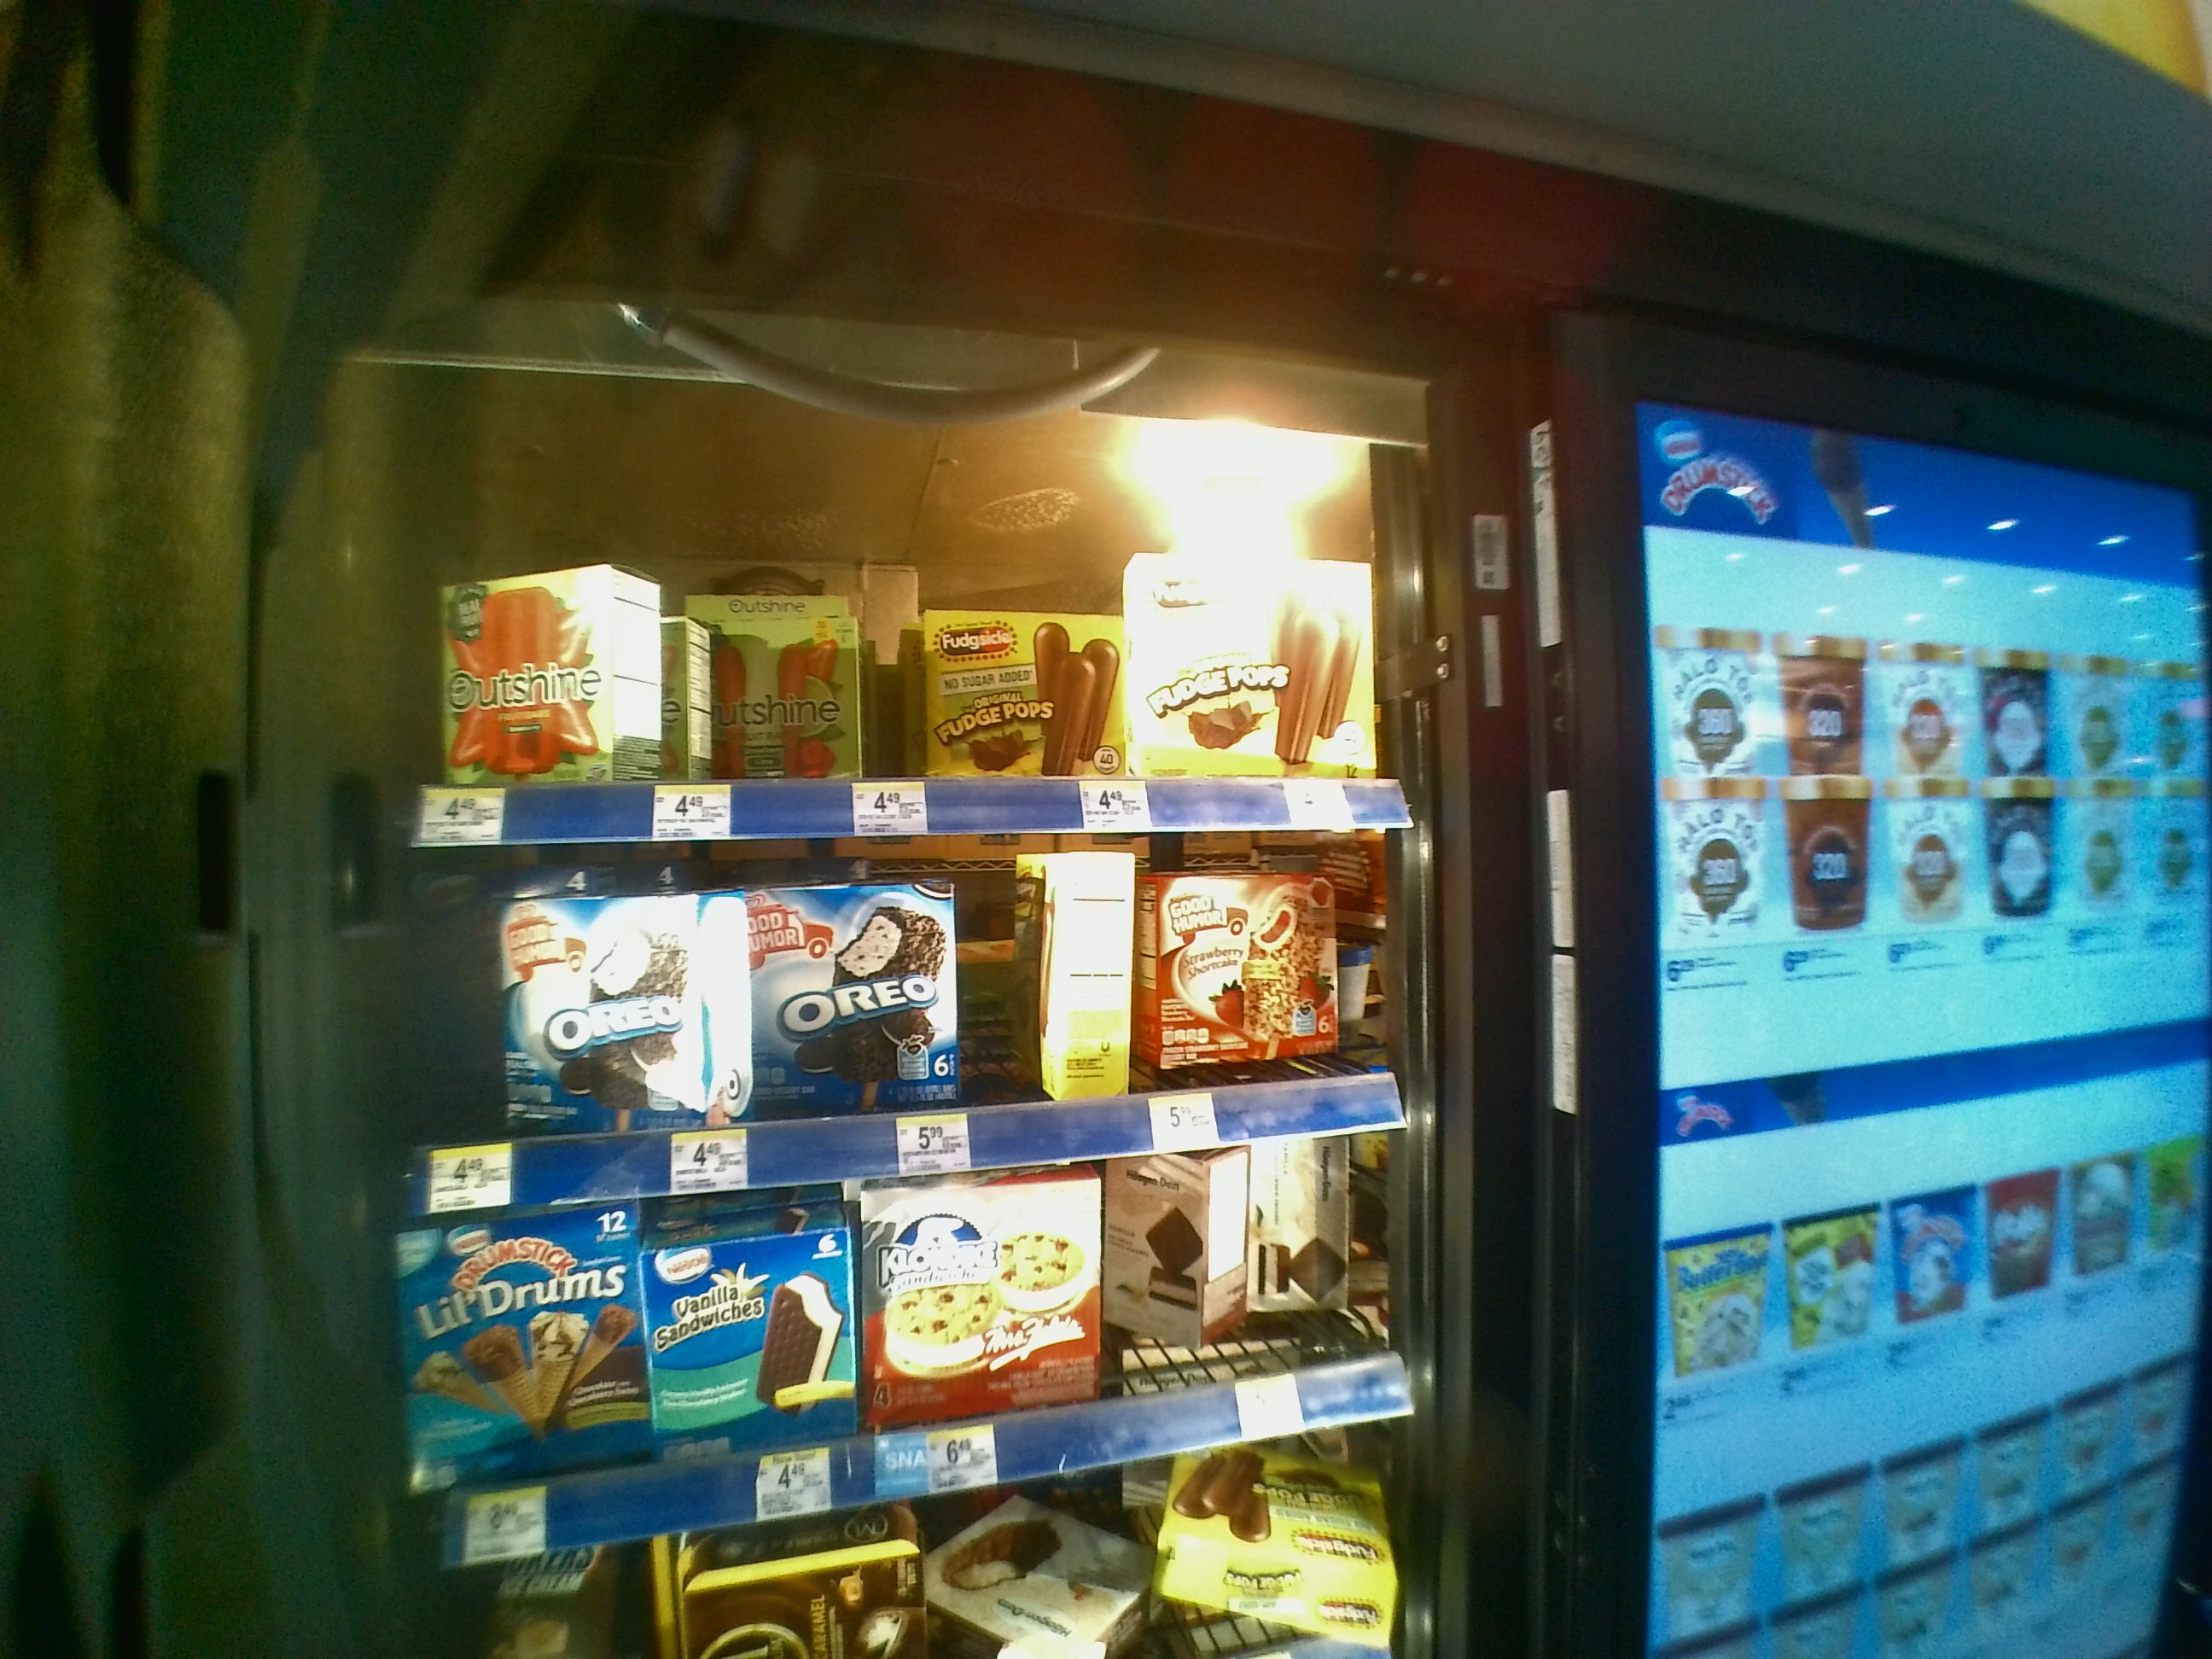shelf: (395, 453, 1390, 833), (411, 1187, 1421, 1547), (401, 843, 1418, 1178)
